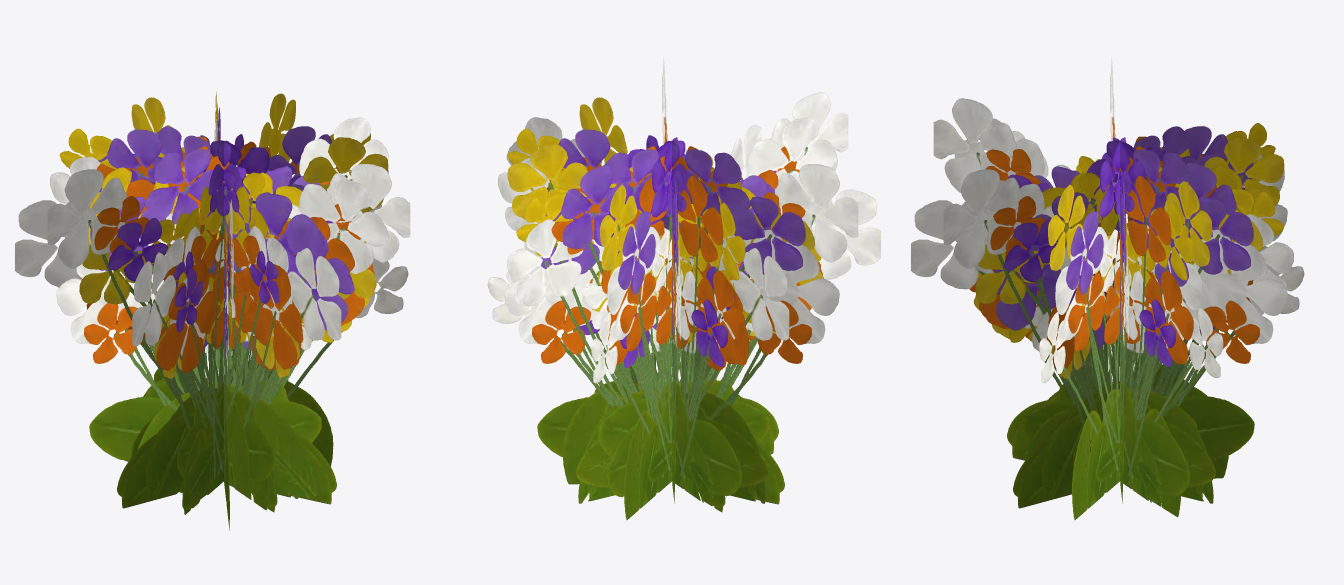
Rendered from flores_matas.glb.
3 renders of one model, left to right at view 1: azimuth 30°, elevation 25°; view 2: azimuth 150°, elevation 25°; view 3: azimuth 270°, elevation 25°, orthographic.
Parts seen in each view (by area): view 1: flor_naranja_1, flor_morada_0, flor_blanca_3, flor_blanca_2, flor_morada_2, flor_blanca_0, flor_amarilla_3, flor_morada_3, flor_amarilla_2, flor_amarilla_1, flor_naranja_3, flor_naranja_0 (+4 smaller); view 2: flor_blanca_2, flor_naranja_1, flor_blanca_3, flor_morada_0, flor_amarilla_3, flor_blanca_0, flor_naranja_0, flor_morada_3, flor_morada_2, flor_naranja_3, flor_morada_1, flor_naranja_2 (+4 smaller); view 3: flor_blanca_2, flor_naranja_1, flor_blanca_3, flor_morada_0, flor_amarilla_3, flor_morada_2, flor_blanca_0, flor_morada_3, flor_amarilla_2, flor_naranja_3, flor_morada_1, flor_amarilla_1 (+4 smaller).
Part boxes in pixels (x1,y1,x2,y2): flor_naranja_1: (89,141,374,481); flor_morada_0: (90,126,354,498); flor_blanca_3: (15,200,408,429); flor_blanca_2: (47,121,410,530); flor_morada_2: (107,107,333,518); flor_blanca_0: (56,117,389,493); flor_amarilla_3: (131,93,388,514); flor_morada_3: (135,134,304,510); flor_amarilla_2: (59,91,376,519); flor_amarilla_1: (90,128,369,510); flor_naranja_3: (86,259,301,489); flor_naranja_0: (84,136,354,498); flor_blanca_2: (498,57,858,504); flor_naranja_1: (537,176,822,496); flor_blanca_3: (487,125,880,475); flor_morada_0: (541,149,805,487); flor_amarilla_3: (507,97,763,519); flor_blanca_0: (504,117,839,406); flor_naranja_0: (532,146,811,503); flor_morada_3: (560,135,734,507); flor_morada_2: (558,129,776,503); flor_naranja_3: (589,254,754,508); flor_morada_1: (576,168,747,498); flor_naranja_2: (549,117,805,474); flor_blanca_2: (933,57,1293,508); flor_naranja_1: (969,147,1254,496); flor_blanca_3: (911,125,1304,475); flor_morada_0: (994,126,1253,487); flor_amarilla_3: (978,137,1284,519); flor_morada_2: (1004,126,1236,503); flor_blanca_0: (954,118,1287,406); flor_morada_3: (1031,137,1188,503); flor_amarilla_2: (975,123,1284,496); flor_naranja_3: (982,266,1181,508); flor_morada_1: (1069,170,1215,498); flor_amarilla_1: (973,128,1260,496).
Size of the model in its own units: 0.32 by 0.32 by 0.3199.
1 material, 1 textured.
